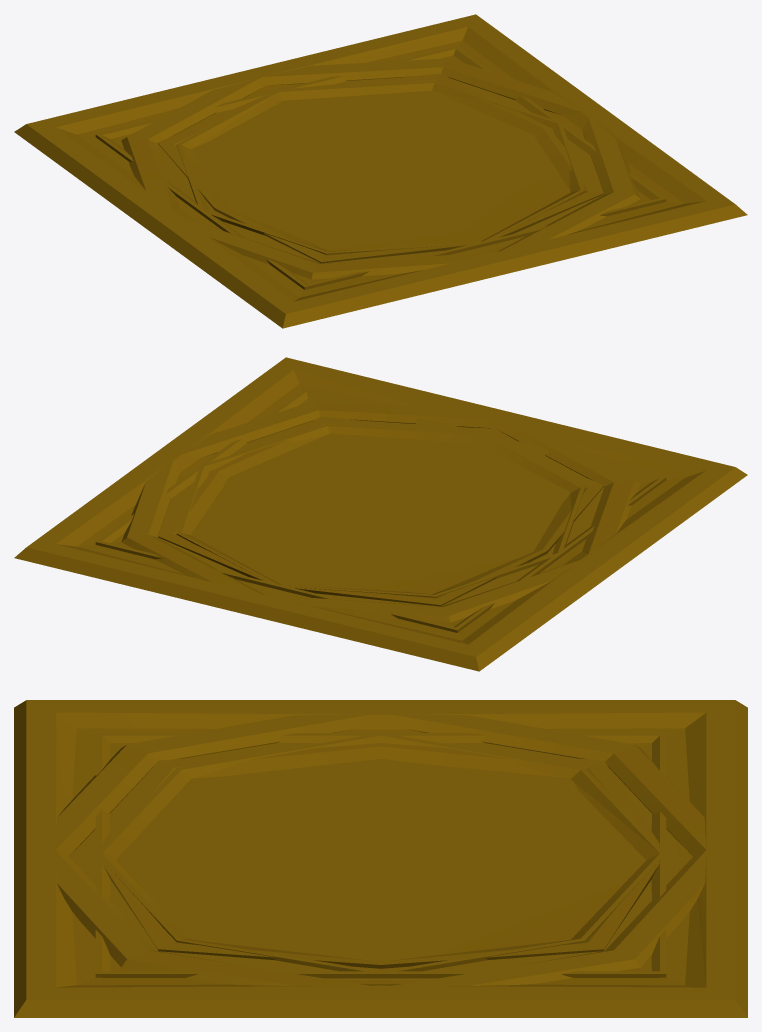
File: PictureFrames.fbx
3 renders of one model, top to bottom at view 1: azimuth 30°, elevation 25°; view 2: azimuth 150°, elevation 25°; view 3: azimuth 270°, elevation 25°, orthographic. The views are drawn at different scales.
Visible parts, largest first — view 1: Mesh_Picture_Frame_Circle01, Mesh_Picture_Frame_Square01, Mesh_Picture_Frame_SquareCircle01; view 2: Mesh_Picture_Frame_Circle01, Mesh_Picture_Frame_Square01, Mesh_Picture_Frame_SquareCircle01; view 3: Mesh_Picture_Frame_Circle01, Mesh_Picture_Frame_SquareCircle01, Mesh_Picture_Frame_Square01.
Boxes of the visible parts, x1,y1,x2,y2 form: Mesh_Picture_Frame_Circle01: (121, 58, 640, 279); Mesh_Picture_Frame_Square01: (14, 14, 747, 328); Mesh_Picture_Frame_SquareCircle01: (15, 15, 705, 326); Mesh_Picture_Frame_Circle01: (121, 401, 640, 622); Mesh_Picture_Frame_Square01: (15, 357, 734, 671); Mesh_Picture_Frame_SquareCircle01: (14, 357, 747, 671); Mesh_Picture_Frame_Circle01: (55, 712, 706, 987); Mesh_Picture_Frame_SquareCircle01: (14, 700, 747, 1017); Mesh_Picture_Frame_Square01: (14, 700, 747, 1017).
Bounding box in the file's own units: 2.43 × 0.0463 × 2.43.
